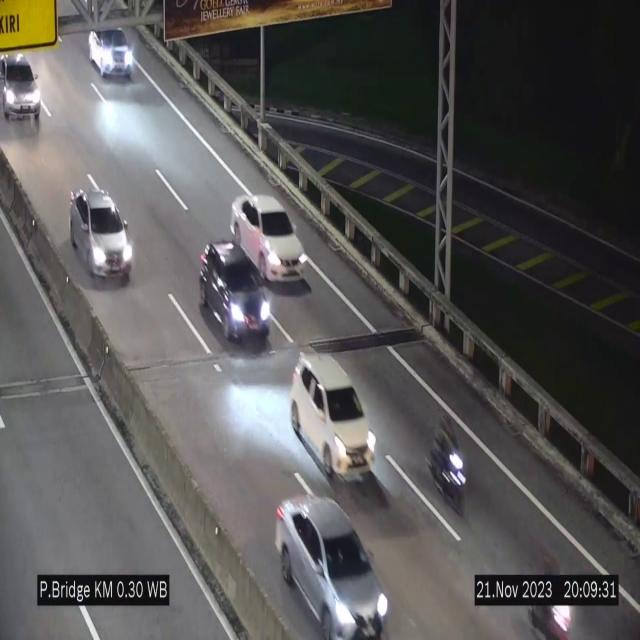Car: (276, 496, 388, 640), (291, 354, 376, 480), (201, 233, 273, 340), (230, 195, 308, 281), (71, 187, 133, 278), (0, 50, 53, 124), (87, 26, 137, 84)
Motorcycle: (527, 546, 572, 640), (429, 420, 466, 516)
